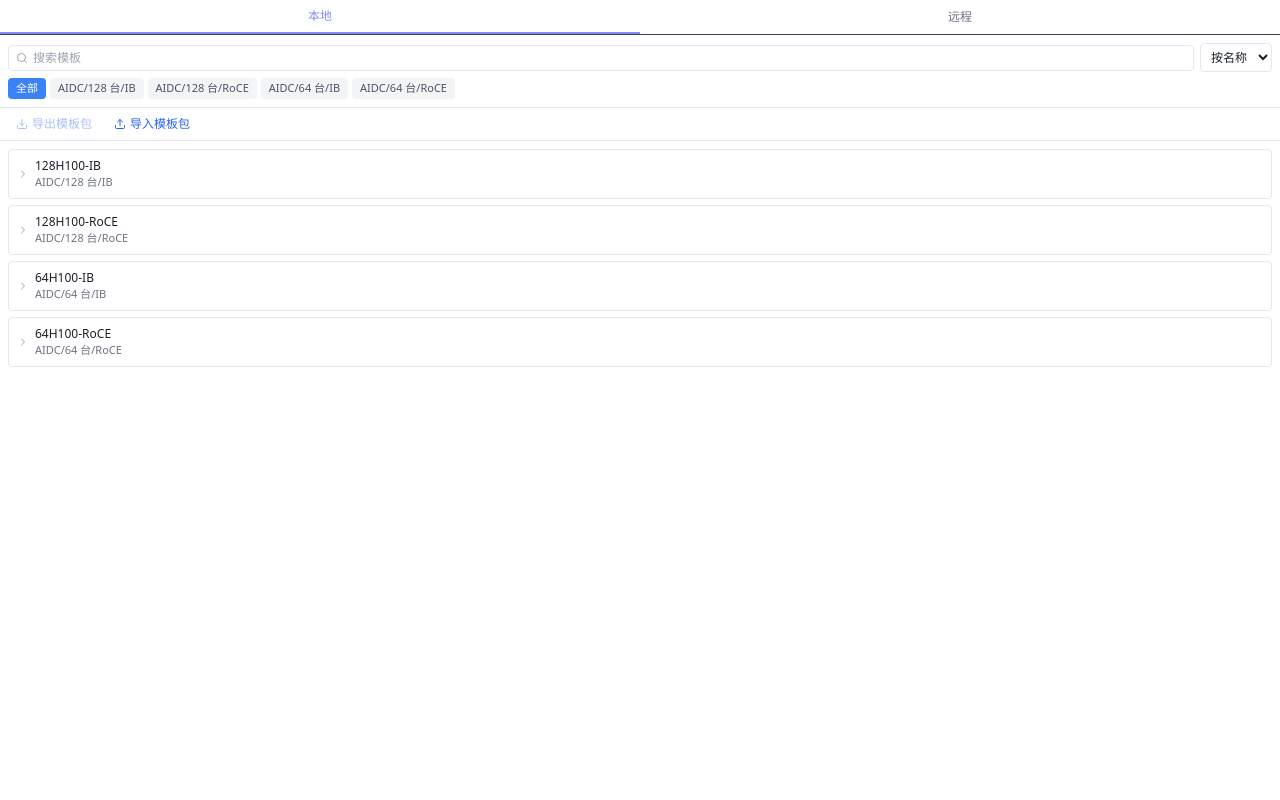
Test: 4.9.0 创建项目对话框分支 › 创建成功关闭对话框
The width and height of the screenshot is (1280, 800).
Click the text "128H100-RoCE": x=76, y=222 top-left (35, 214), bottom-right (118, 230)
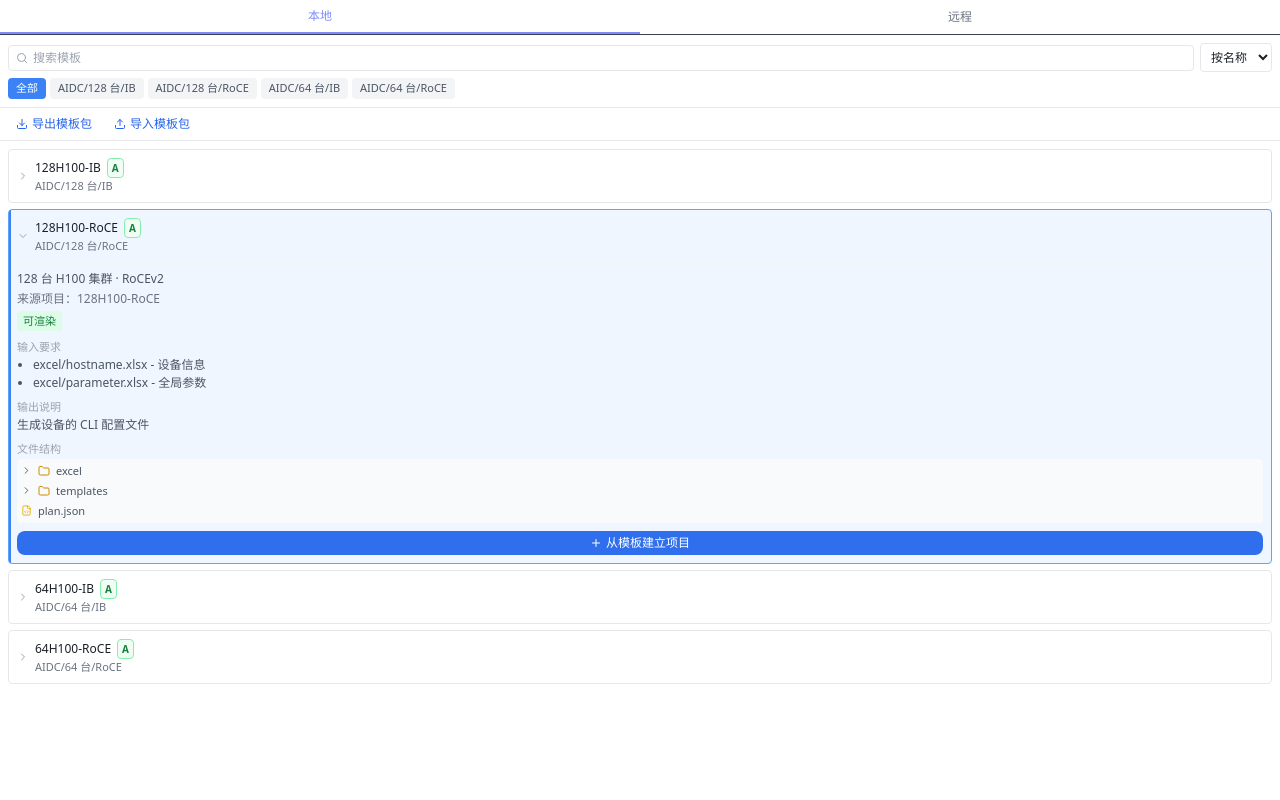
Click the button "从模板建立项目": x=640, y=542 top-left (17, 530), bottom-right (1263, 554)
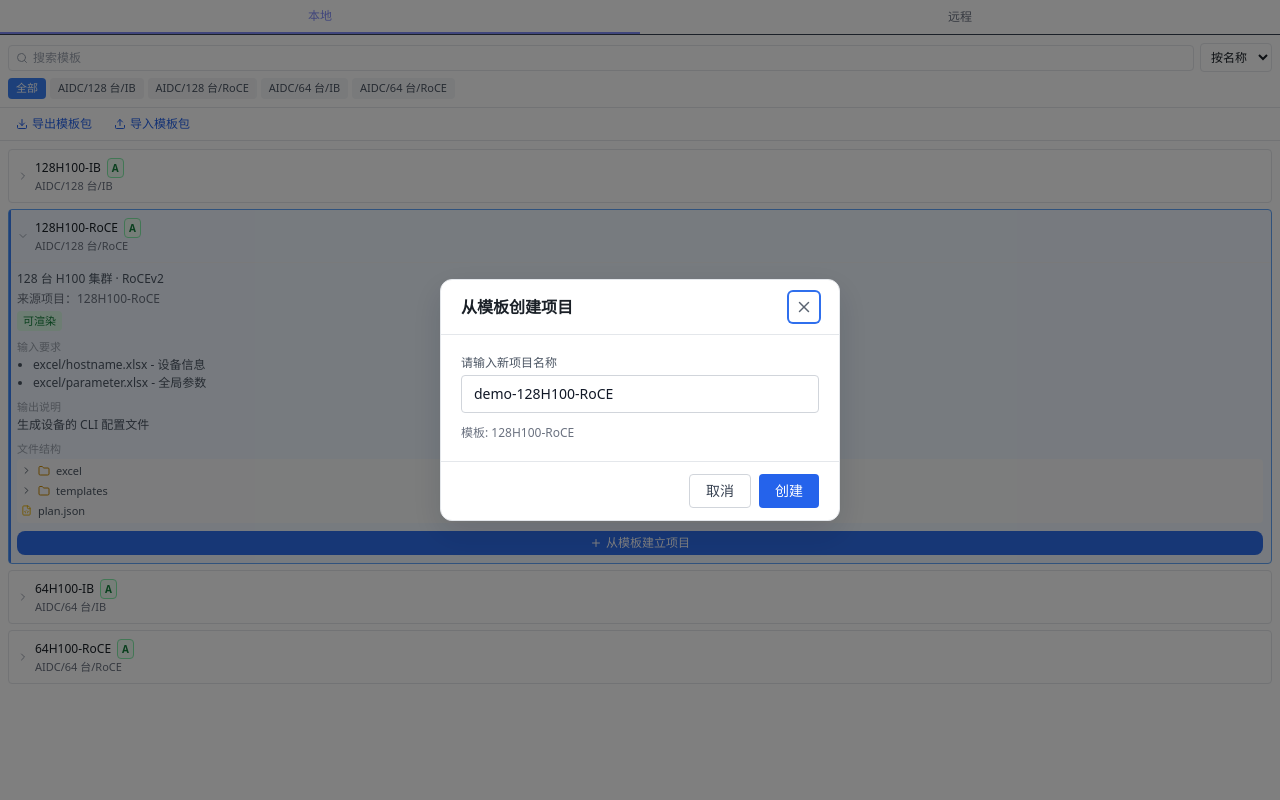
Check: the field with placeholder "请输入新项目名称" holds "demo-128H100-RoCE", box top-left (461, 375), bottom-right (819, 413)
Click the button "创建": x=789, y=491 top-left (759, 474), bottom-right (819, 508)
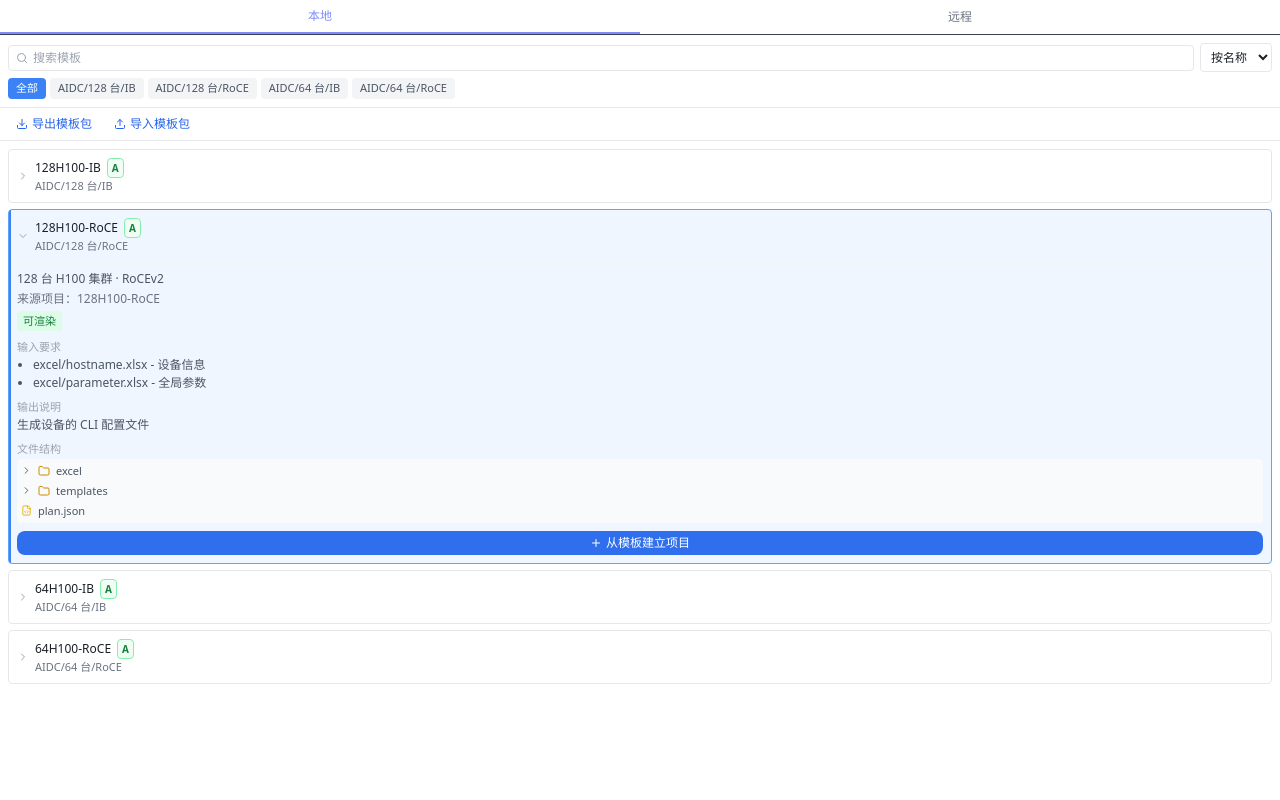
Check: the label with placeholder "请输入新项目名称" is gone
